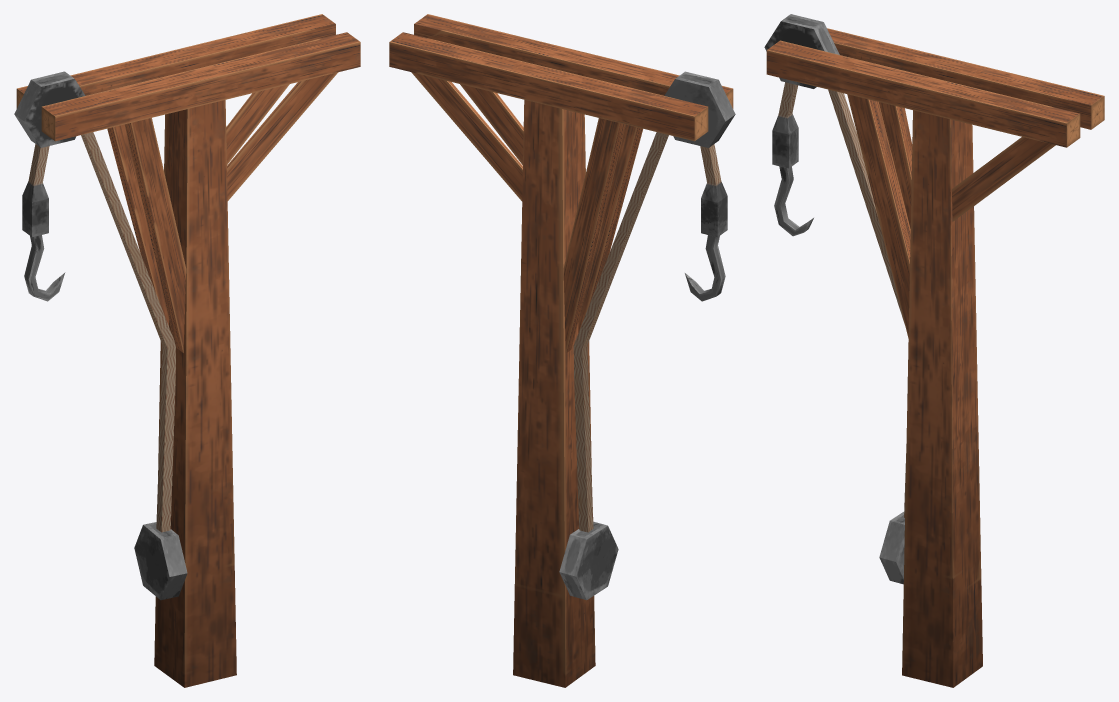
The model's file is Der.fbx.
3 views of the same model, side by side, from view 1: azimuth 30°, elevation 25°; view 2: azimuth 150°, elevation 25°; view 3: azimuth 330°, elevation 25° (orthographic).
Visible parts, largest first — view 1: polySurface8, polySurface3, polySurface7, polySurface17, polySurface16, polySurface5, polySurface15, polySurface9, polySurface6, polySurface10, polySurface4; view 2: polySurface8, polySurface7, polySurface3, polySurface16, polySurface6, polySurface4, polySurface15, polySurface9, polySurface17, polySurface10, polySurface5; view 3: polySurface8, polySurface3, polySurface7, polySurface17, polySurface5, polySurface9, polySurface16, polySurface6, polySurface10, polySurface15.
Boxes of the visible parts, <box> form: polySurface8: <box>154,100,236,687</box>; polySurface3: <box>41,32,360,141</box>; polySurface7: <box>16,14,335,108</box>; polySurface17: <box>124,118,186,352</box>; polySurface16: <box>81,132,175,532</box>; polySurface5: <box>227,72,337,200</box>; polySurface15: <box>134,522,187,600</box>; polySurface9: <box>22,144,65,301</box>; polySurface6: <box>107,124,168,325</box>; polySurface10: <box>14,71,85,147</box>; polySurface4: <box>226,84,289,164</box>; polySurface8: <box>513,100,595,687</box>; polySurface7: <box>389,32,708,141</box>; polySurface3: <box>414,14,733,108</box>; polySurface16: <box>573,132,668,532</box>; polySurface6: <box>563,118,625,353</box>; polySurface4: <box>411,72,522,201</box>; polySurface15: <box>559,521,618,600</box>; polySurface9: <box>685,144,727,301</box>; polySurface17: <box>578,124,642,332</box>; polySurface10: <box>664,71,735,147</box>; polySurface5: <box>460,84,523,164</box>; polySurface8: <box>902,110,982,687</box>; polySurface3: <box>766,40,1080,147</box>; polySurface7: <box>827,28,1104,129</box>; polySurface17: <box>847,94,910,338</box>; polySurface5: <box>951,137,1055,221</box>; polySurface9: <box>772,82,813,236</box>; polySurface16: <box>828,89,906,517</box>; polySurface6: <box>878,102,912,228</box>; polySurface10: <box>764,14,839,88</box>; polySurface15: <box>879,511,904,584</box>.
Size of the model in its own units: 178 by 330 by 37.56.
